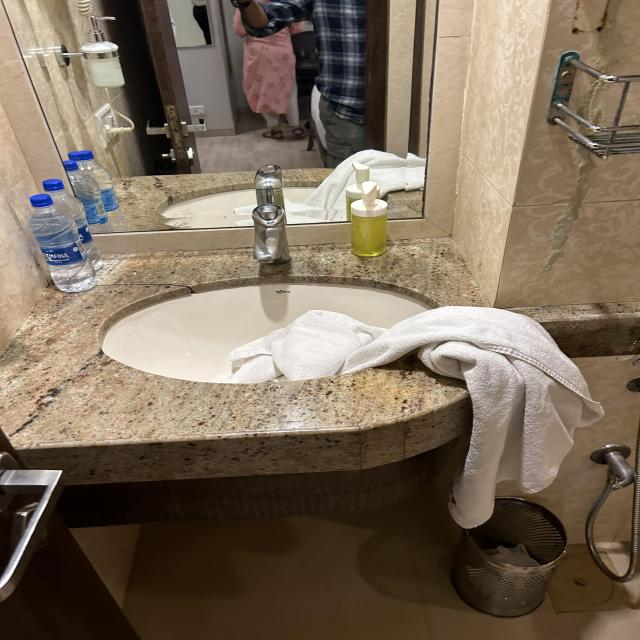mess: (0, 201, 606, 488)
